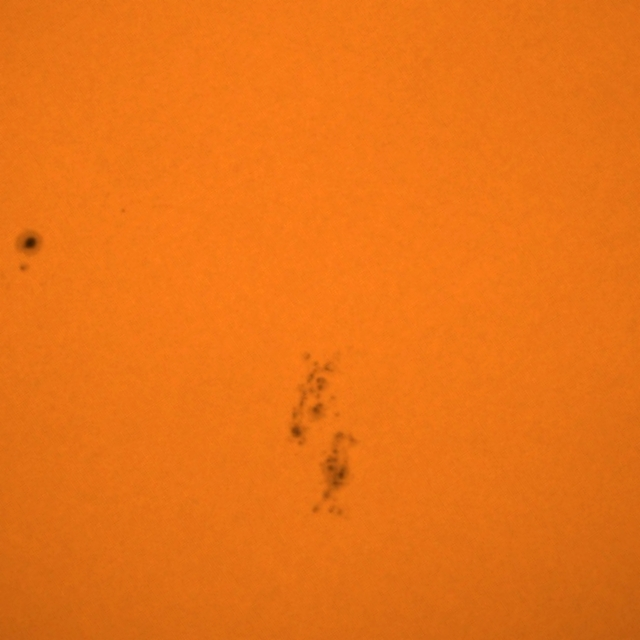sunspot: (283, 384, 354, 450), (292, 366, 343, 427), (318, 428, 360, 480), (297, 349, 336, 401), (310, 472, 350, 520), (15, 230, 41, 274), (119, 206, 128, 216)
